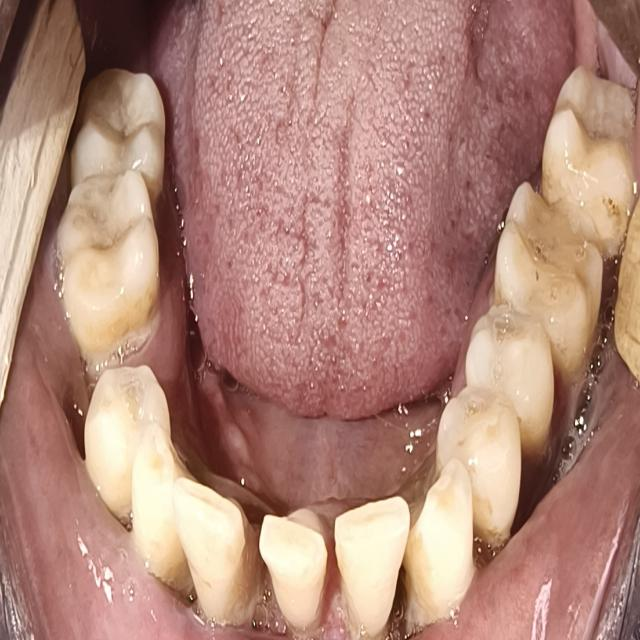processing_area: (147, 0, 585, 507)
